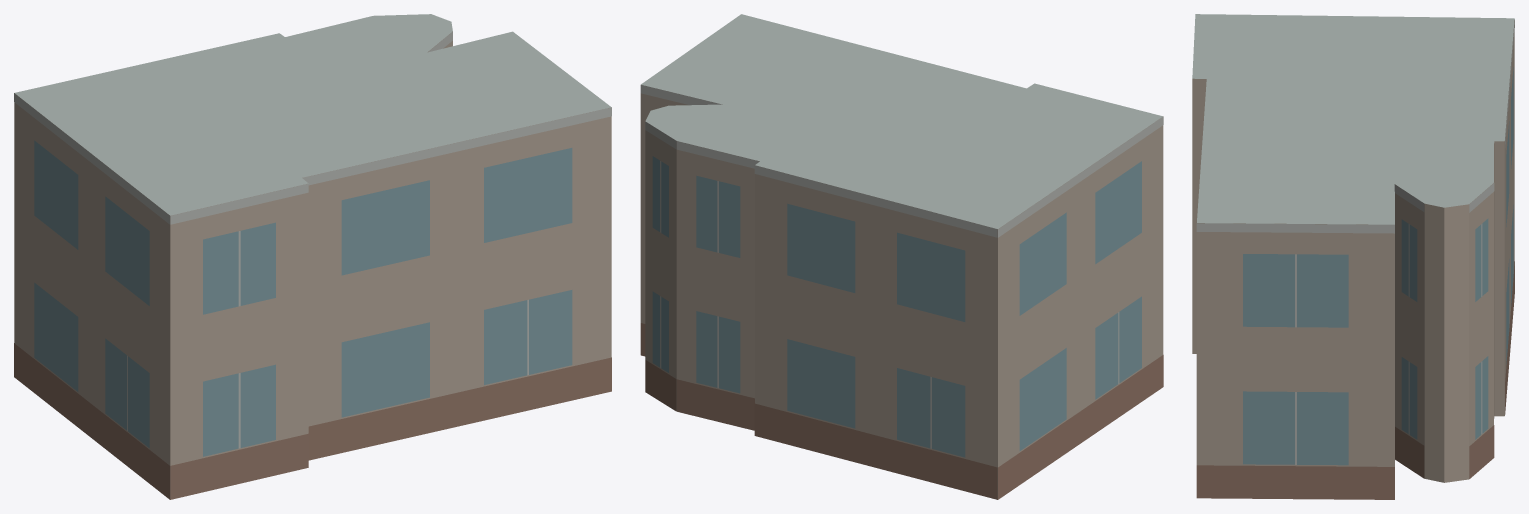
The model's file is survey-upis-32993211.glb.
3 renders of one model, left to right at view 1: azimuth 30°, elevation 25°; view 2: azimuth 150°, elevation 25°; view 3: azimuth 270°, elevation 25°, orthographic. The views are drawn at different scales.
Visible parts, largest first — view 1: survey-upis-32993211.tmp; view 2: survey-upis-32993211.tmp; view 3: survey-upis-32993211.tmp.
Part boxes in pixels (x1,y1,x2,y2): survey-upis-32993211.tmp: [14, 14, 611, 499]; survey-upis-32993211.tmp: [640, 14, 1163, 499]; survey-upis-32993211.tmp: [1192, 14, 1514, 499].
Bounding box in the file's own units: 12.49 × 7.6 × 8.08.
